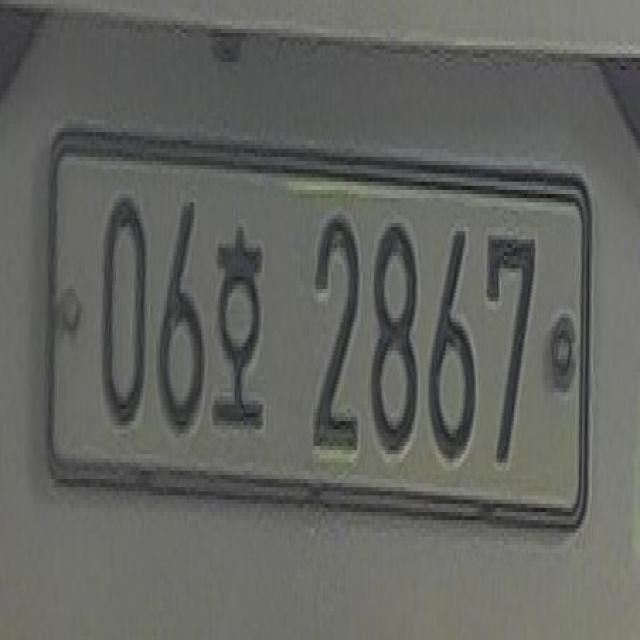0: (96, 164, 149, 449)
2: (305, 189, 363, 468)
6: (154, 190, 210, 449), (427, 214, 477, 486)
7: (487, 224, 542, 474)
8: (367, 208, 423, 468)
ho: (214, 221, 274, 451)
license_plate: (40, 111, 609, 589)
